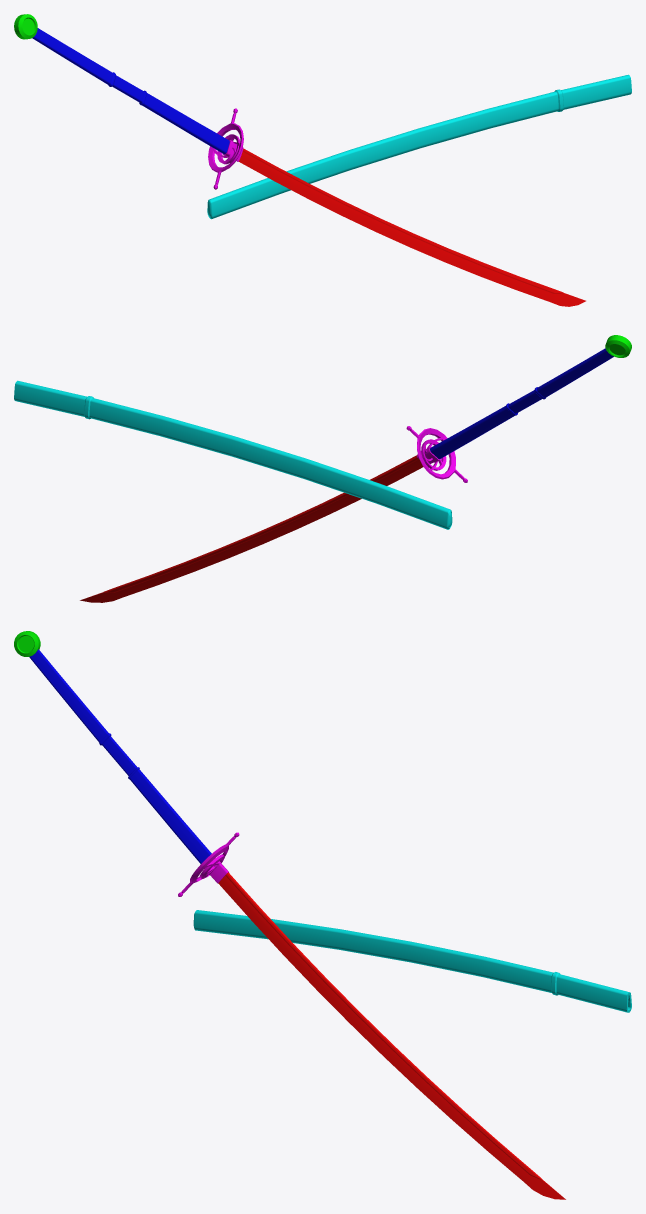
3 views of the same model, one above another, from view 1: azimuth 30°, elevation 25°; view 2: azimuth 150°, elevation 25°; view 3: azimuth 330°, elevation 25° (orthographic). The views are drawn at different scales.
Parts seen in each view (by area): view 1: polySurface30, polySurface32; view 2: polySurface32, polySurface30; view 3: polySurface30, polySurface32.
Part boxes in pixels (x1,y1,x2,y2): polySurface30: [14, 14, 585, 306]; polySurface32: [207, 74, 631, 219]; polySurface32: [14, 380, 452, 529]; polySurface30: [80, 335, 631, 602]; polySurface30: [14, 631, 565, 1199]; polySurface32: [193, 910, 631, 1012].
Size of the model in its own units: 150 by 96.01 by 12.57.
